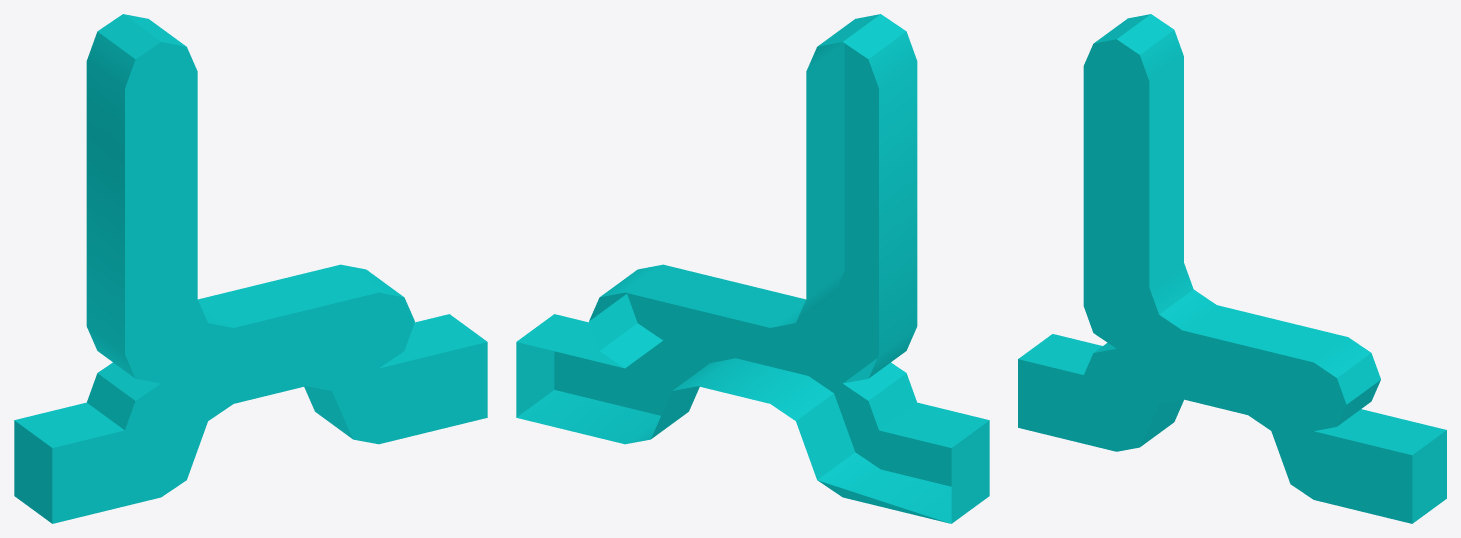
The model's file is L_Blue.glb.
3 views of the same model, side by side, from view 1: azimuth 30°, elevation 25°; view 2: azimuth 150°, elevation 25°; view 3: azimuth 330°, elevation 25° (orthographic). The views are drawn at different scales.
Visible parts, largest first — view 1: L; view 2: L; view 3: L.
Boxes of the visible parts, box(x1,y1,x2,y2) form: L: box(14, 14, 487, 523); L: box(516, 14, 989, 523); L: box(1018, 14, 1446, 523).
Size of the model in its own units: 0.4999 by 0.4999 by 0.0759.
1 material, 1 textured.
